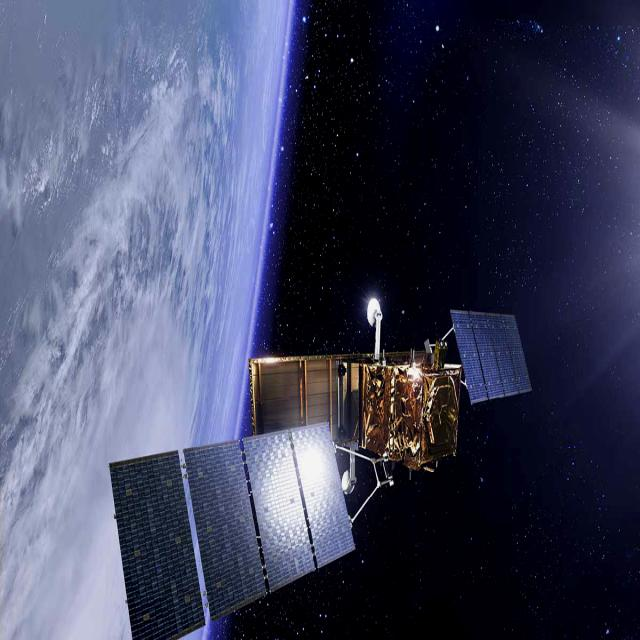medium_debris: (98, 285, 540, 640)
